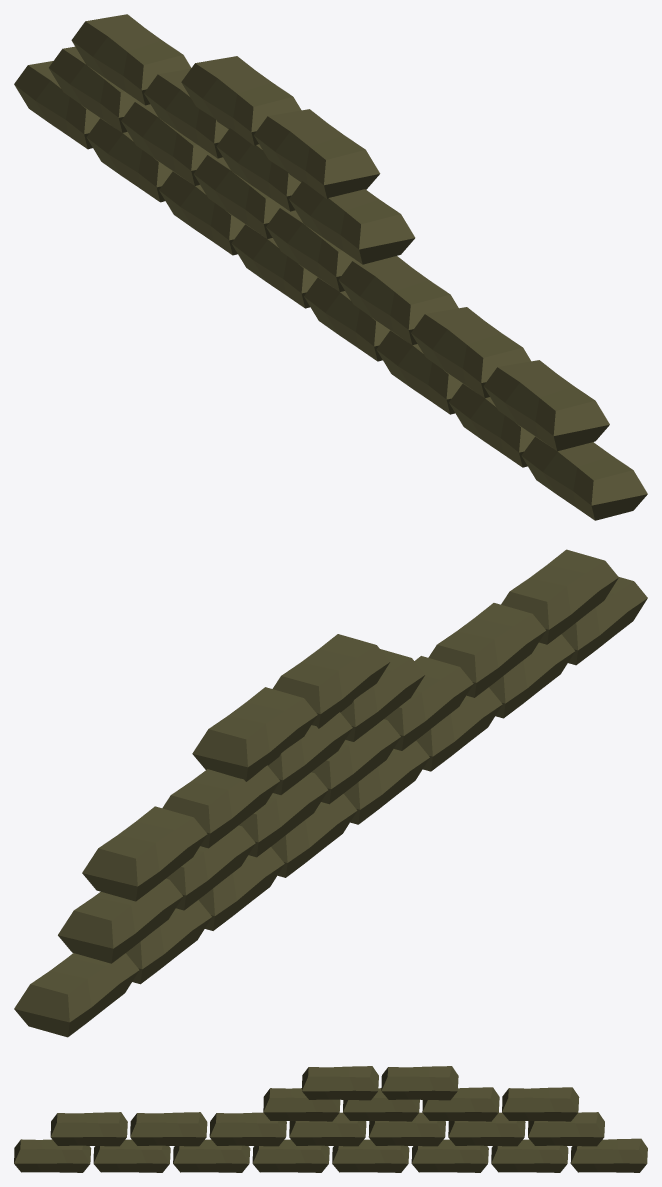
The model's file is Barricade_2.obj.
3 renders of one model, top to bottom at view 1: azimuth 30°, elevation 25°; view 2: azimuth 150°, elevation 25°; view 3: azimuth 270°, elevation 25°, orthographic. The views are drawn at different scales.
Parts seen in each view (by area): view 1: Cube.140_Cube.142; view 2: Cube.140_Cube.142; view 3: Cube.140_Cube.142.
Boxes of the visible parts, x1,y1,x2,y2 form: Cube.140_Cube.142: (14,14,647,520); Cube.140_Cube.142: (14,549,647,1037); Cube.140_Cube.142: (14,1066,647,1172).
Size of the model in its own units: 0.2615 by 0.6973 by 4.22.
